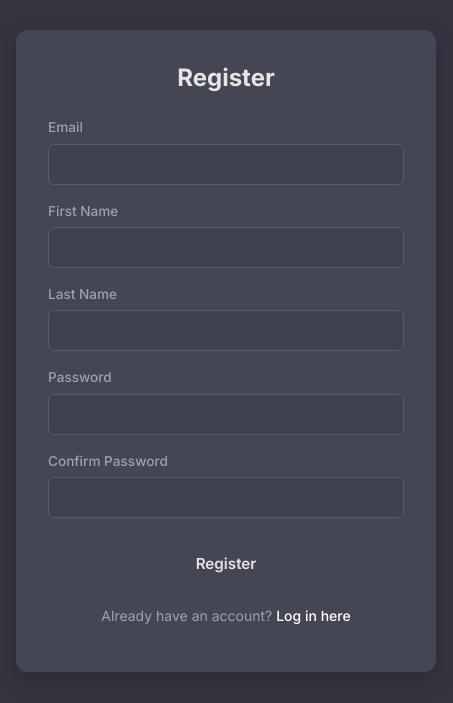
Test: Register page › does not auto-login after registration
Step 1. Type "user@example.com" into the field labelled "Email" → (226, 164), box [48,144,404,184]
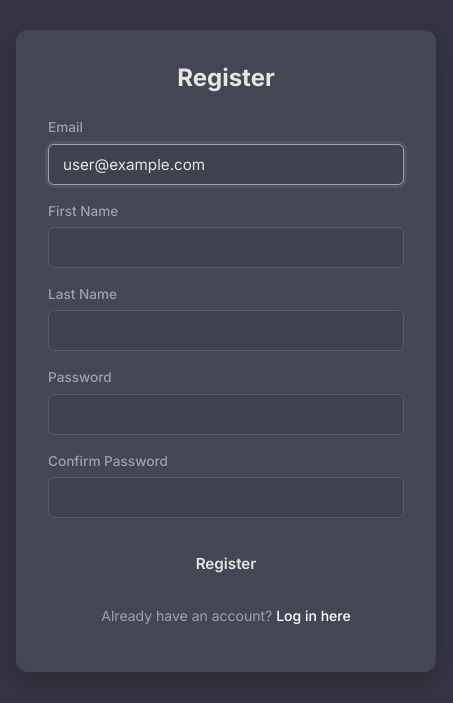
Step 2. Type "John" into the field labelled "First Name" → (226, 247), box [48,227,404,268]
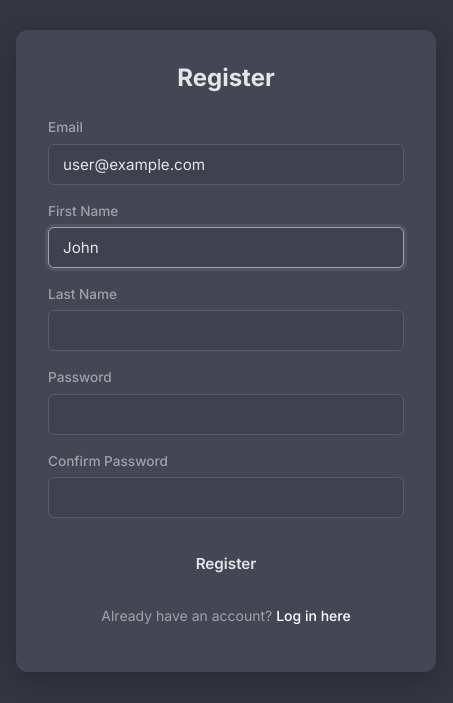
Step 3. Type "Doe" into the field labelled "Last Name" → (226, 331), box [48,310,404,351]
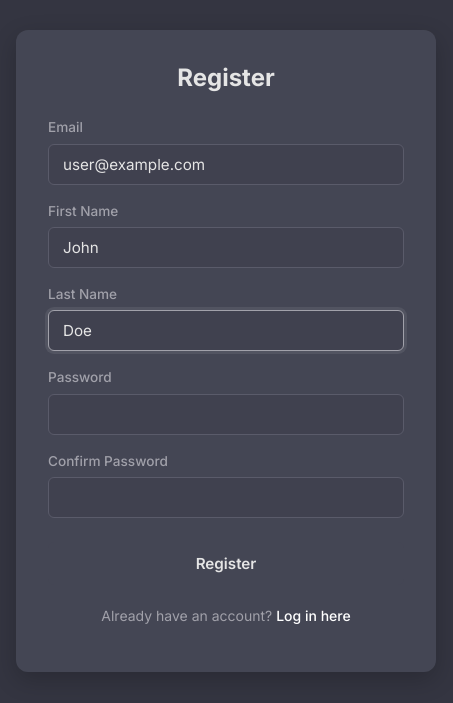
Step 4. Type "Password1" into the password field labelled "Password" → (226, 414), box [48,394,404,435]
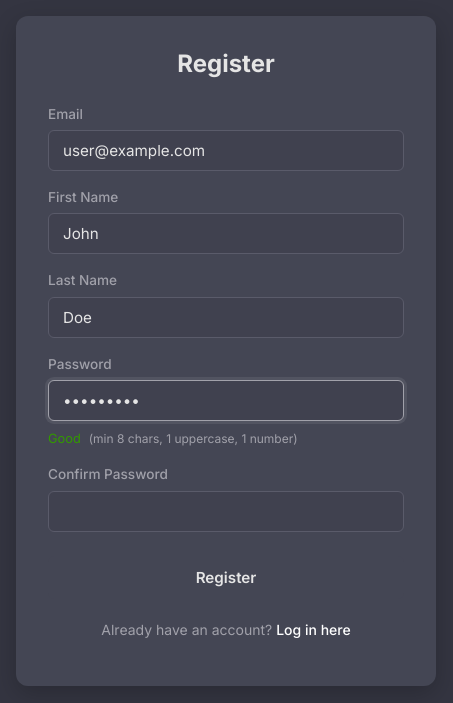
Step 5. Type "Password1" into the password field labelled "Confirm Password" → (226, 511), box [48,491,404,532]
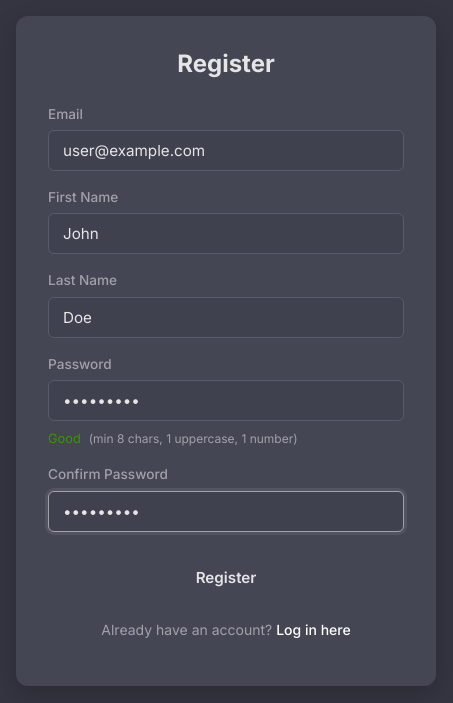
Step 6. Click the button "Register" → (226, 577), box [48,556,404,599]
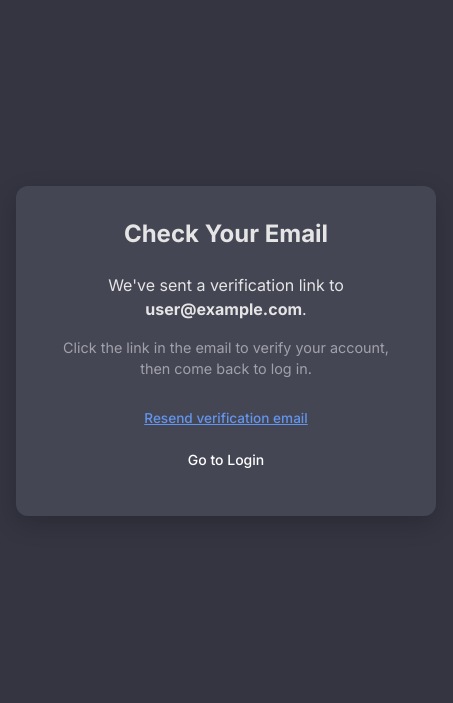
Expected: the heading "Check Your Email" is shown, [124,219,328,248]
Expected: the link "Go to Login" is shown, [188,451,264,468]
